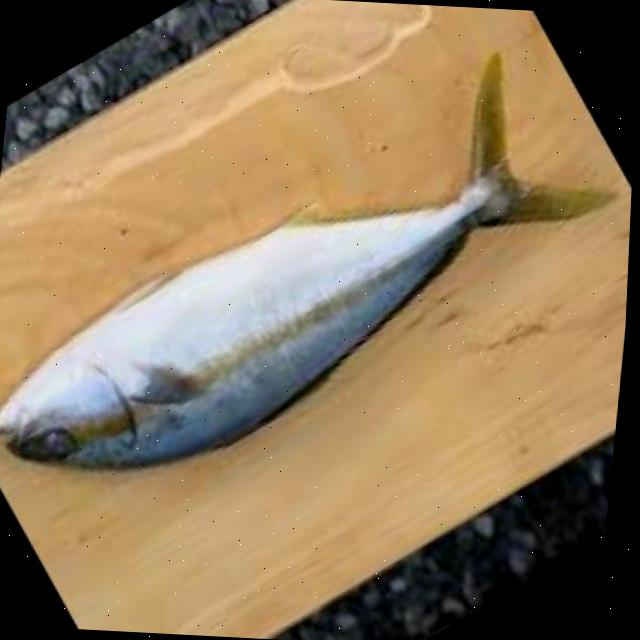Kingfish: (0, 23, 638, 503)
